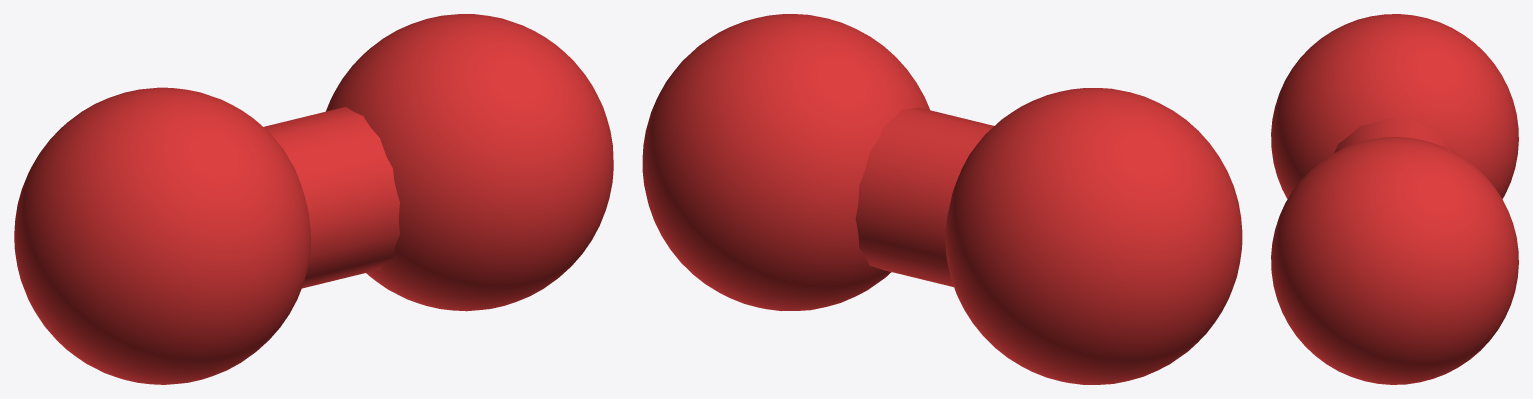
3 views of the same model, side by side, from view 1: azimuth 30°, elevation 25°; view 2: azimuth 150°, elevation 25°; view 3: azimuth 270°, elevation 25° (orthographic). The views are drawn at different scales.
Parts seen in each view (by area): view 1: atoms, bonds; view 2: atoms, bonds; view 3: atoms, bonds.
Boxes of the visible parts, x1,y1,x2,y2 form: atoms: [14, 14, 613, 384]; bonds: [263, 107, 399, 288]; atoms: [642, 14, 1242, 384]; bonds: [855, 107, 993, 287]; atoms: [1271, 14, 1518, 384]; bonds: [1334, 118, 1457, 153].
Bounding box in the file's own units: 1.85 × 0.8517 × 0.8511.
